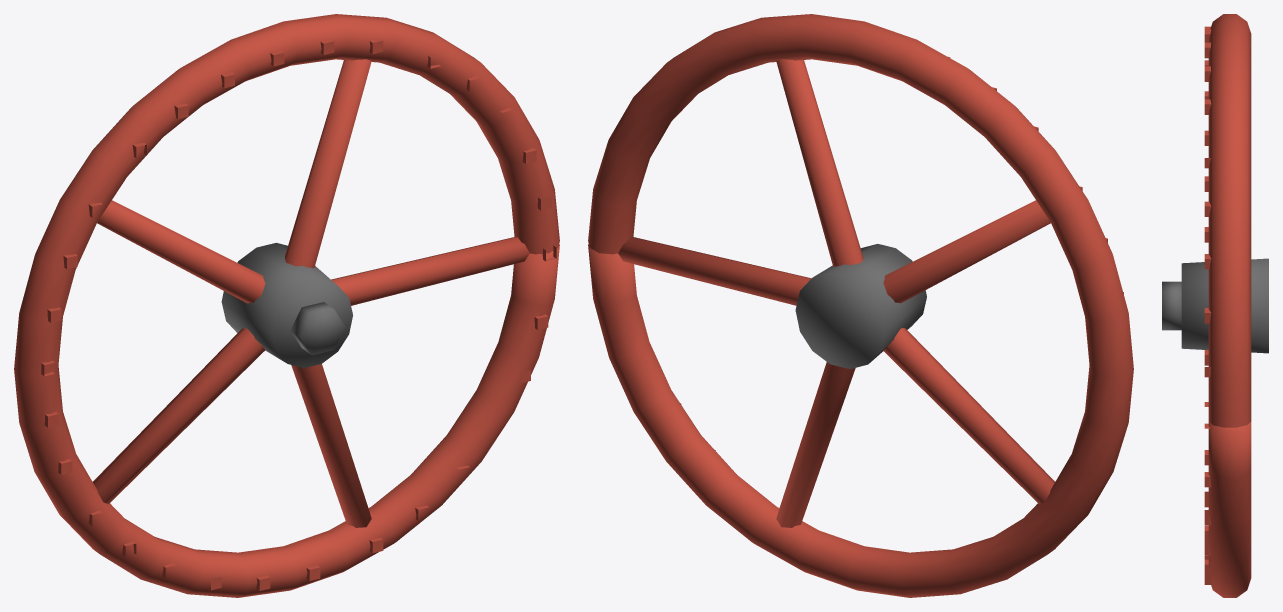
File: valve_wheel.glb
3 renders of one model, left to right at view 1: azimuth 30°, elevation 25°; view 2: azimuth 150°, elevation 25°; view 3: azimuth 270°, elevation 25°, orthographic. The views are drawn at different scales.
Visible parts, largest first — view 1: ValveWheel; view 2: ValveWheel; view 3: ValveWheel.
Part boxes in pixels (x1=…): ValveWheel: x1=14, y1=14, x2=559, y2=597; ValveWheel: x1=588, y1=14, x2=1133, y2=597; ValveWheel: x1=1162, y1=14, x2=1268, y2=597.
Bounding box in the file's own units: 0.6017 × 0.6018 × 0.11.
